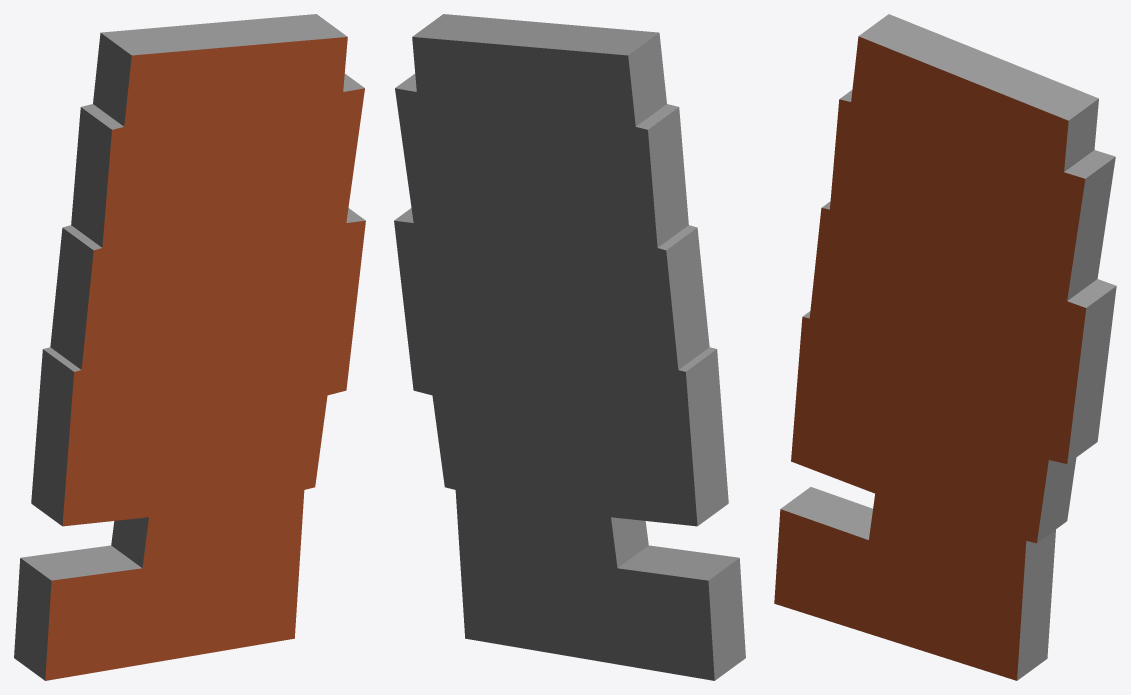
The model's file is construction_4298_assumed_A_Casa_h6m.obj.
The picture shows the model from 3 angles, left to right: view 1: azimuth 30°, elevation 25°; view 2: azimuth 150°, elevation 25°; view 3: azimuth 330°, elevation 25°; orthographic projection. The views are drawn at different scales.
Visible parts, largest first — view 1: construction_4298_assumed_A_Casa; view 2: construction_4298_assumed_A_Casa; view 3: construction_4298_assumed_A_Casa.
Part boxes in pixels (<box>): construction_4298_assumed_A_Casa: <box>14,14,365,680</box>; construction_4298_assumed_A_Casa: <box>394,14,745,680</box>; construction_4298_assumed_A_Casa: <box>774,14,1116,680</box>.
Bounding box in the file's own units: 35.51 × 65.91 × 6.
